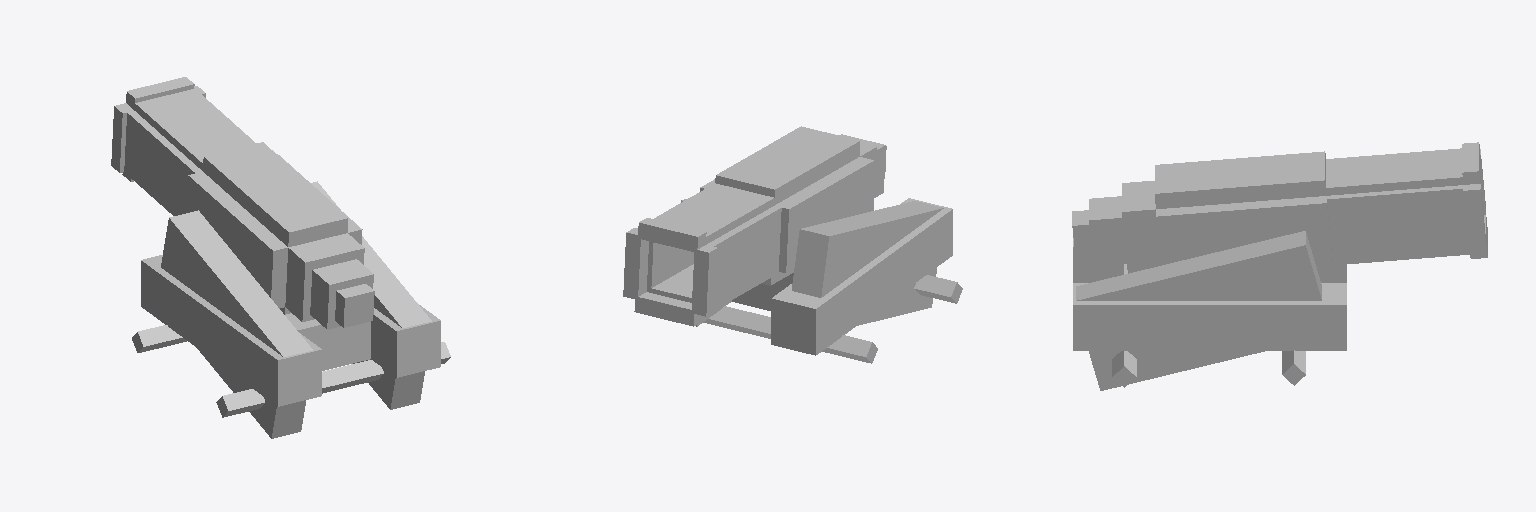
The model's file is ship_cannon.obj.
The picture shows the model from 3 angles: view 1: azimuth 30°, elevation 25°; view 2: azimuth 150°, elevation 25°; view 3: azimuth 270°, elevation 25°; orthographic projection.
Visible parts, largest first — view 1: cube, achse1, achse2; view 2: cube, achse2, achse1; view 3: cube, achse1, achse2.
Part boxes in pixels (bbox=[...]): cube: bbox=[111, 77, 440, 438]; achse1: bbox=[216, 342, 450, 417]; achse2: bbox=[132, 325, 186, 352]; cube: bbox=[623, 126, 952, 355]; achse2: bbox=[703, 306, 877, 363]; achse1: bbox=[914, 275, 962, 303]; cube: bbox=[1072, 142, 1487, 390]; achse1: bbox=[1112, 351, 1136, 387]; achse2: bbox=[1282, 350, 1305, 385].
Size of the model in its own units: 0.9375 by 0.7981 by 1.51.